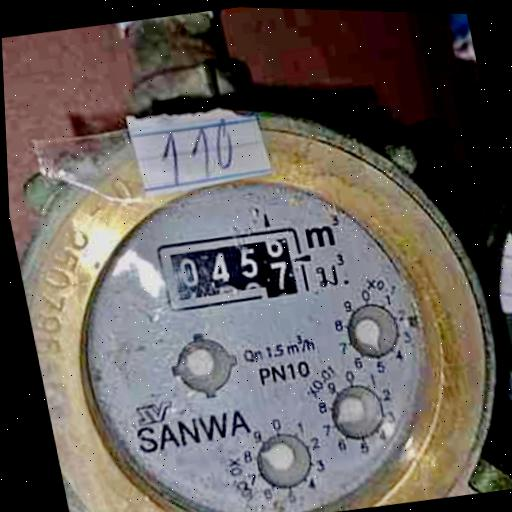0: (168, 249, 212, 301)
4: (200, 246, 240, 296)
5: (229, 242, 265, 292)
7: (255, 237, 297, 298)
border_water_meter_number: (153, 222, 310, 317)
